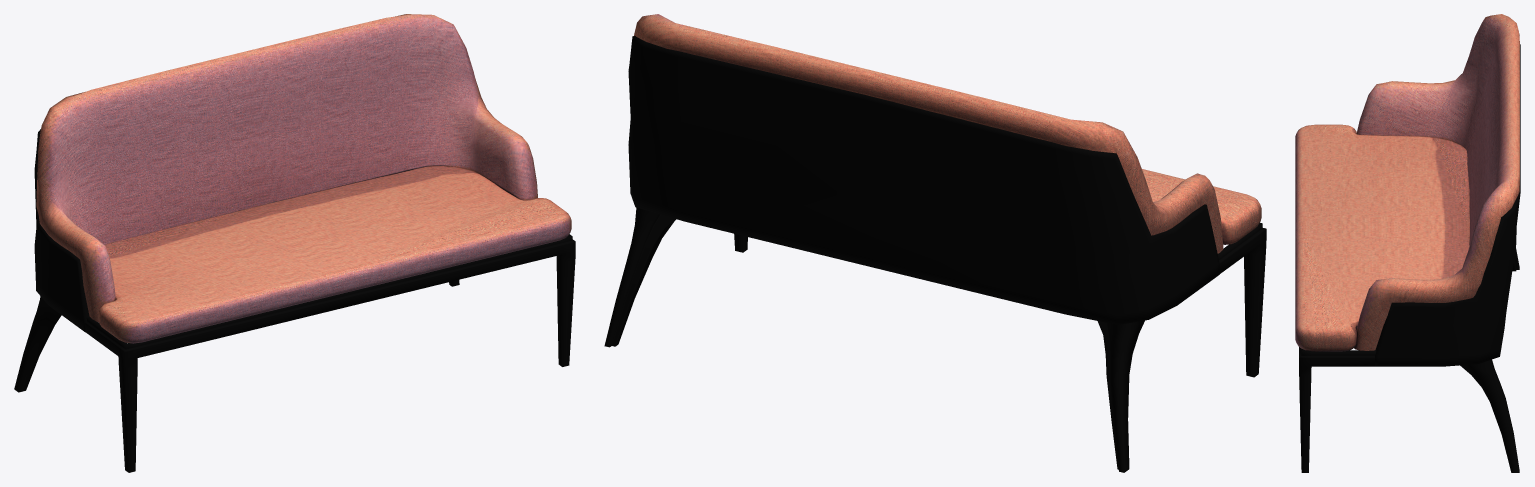
File: Two_Seater_Sofa_01.fbx
The picture shows the model from 3 angles, left to right: view 1: azimuth 30°, elevation 25°; view 2: azimuth 150°, elevation 25°; view 3: azimuth 270°, elevation 25°; orthographic projection. The views are drawn at different scales.
Parts seen in each view (by area): view 1: Back; view 2: Back; view 3: Back.
Boxes of the visible parts, x1,y1,x2,y2 form: Back: [14, 14, 575, 472]; Back: [604, 14, 1266, 472]; Back: [1295, 14, 1520, 472].
Bounding box in the file's own units: 133 × 79.88 × 60.01.
Materials: 1 (1 with a texture image).
